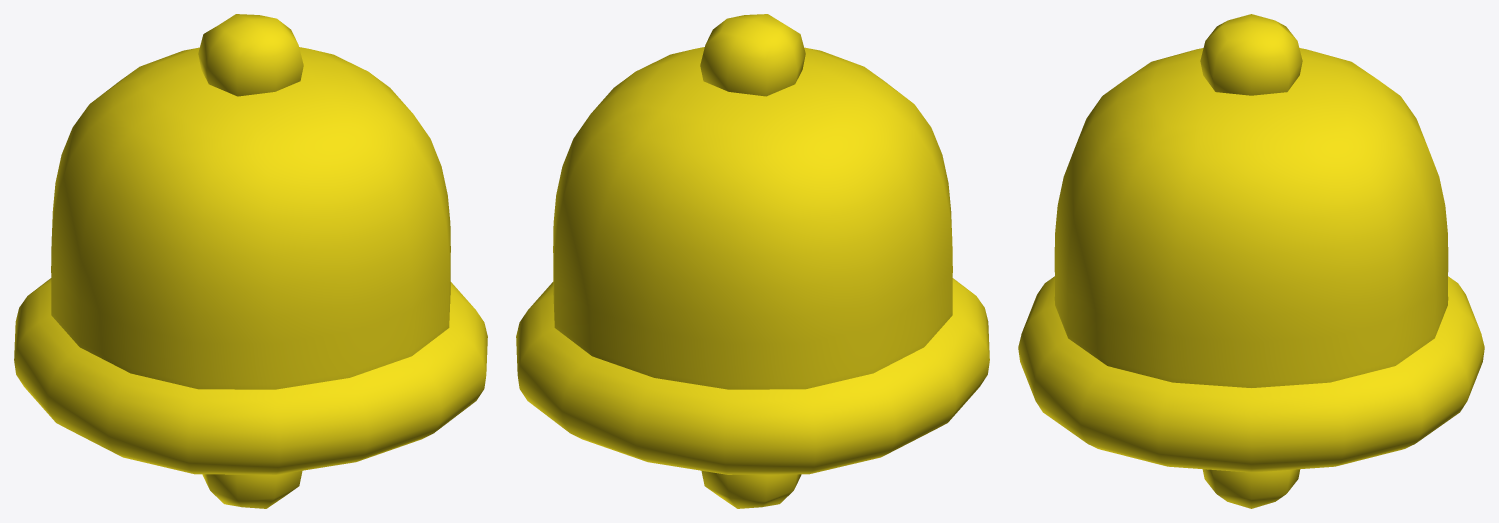
The model's file is Bell.fbx.
3 renders of one model, left to right at view 1: azimuth 30°, elevation 25°; view 2: azimuth 150°, elevation 25°; view 3: azimuth 270°, elevation 25°, orthographic.
Parts seen in each view (by area): view 1: Bell3, Bell2; view 2: Bell3, Bell2; view 3: Bell3, Bell2.
Part boxes in pixels (x1,y1,x2,y2): Bell3: (14,14,487,474); Bell2: (202,470,302,508); Bell3: (516,14,989,474); Bell2: (701,470,801,508); Bell3: (1018,14,1484,472); Bell2: (1202,469,1300,508).
Bounding box in the file's own units: 2.89 × 3.28 × 2.89.
